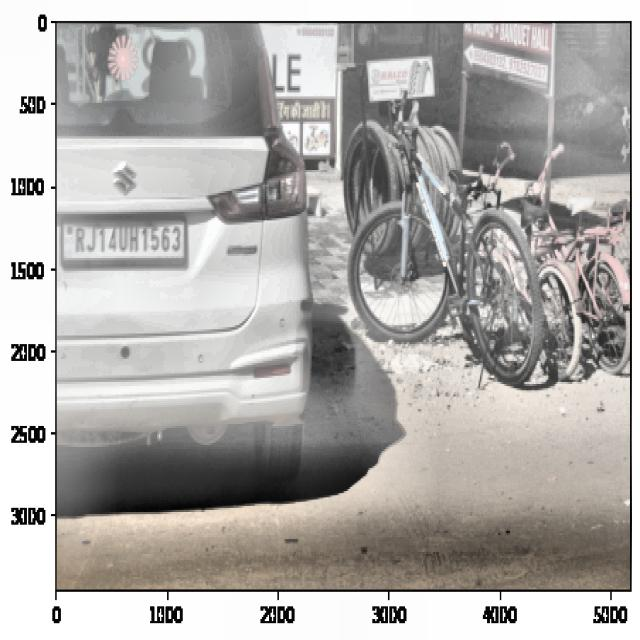license_plate: (69, 219, 185, 262)
